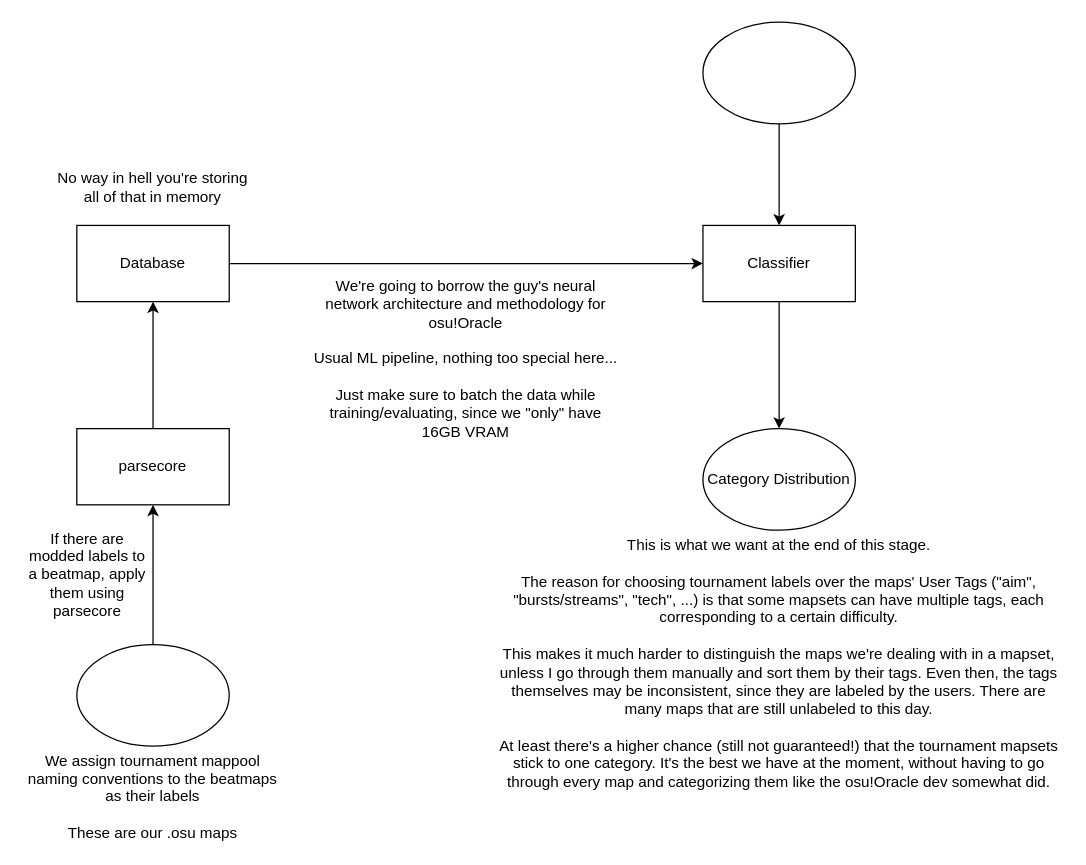
Image size: 1086x865. Some labels were removed from this diagram. Here are the shapes that lost their labels. From the top down, the box of each, then its label:
(702, 21, 855, 124): Test beatmaps
(76, 643, 229, 746): Dataset
